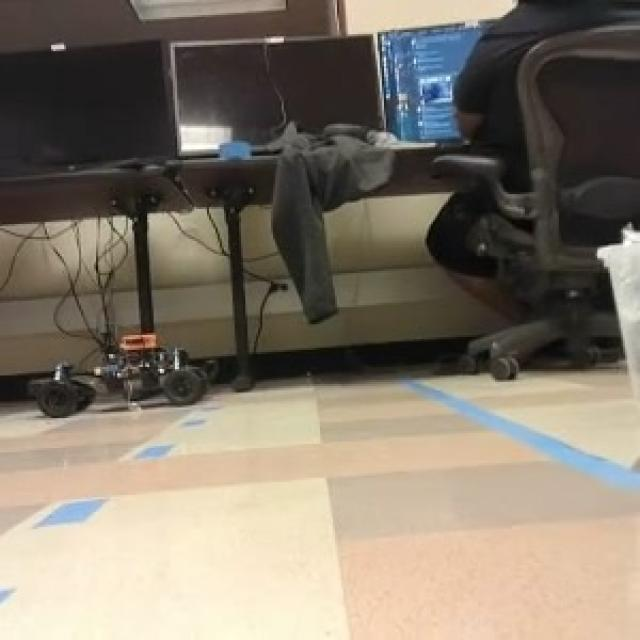obstacle: (36, 328, 212, 418)
